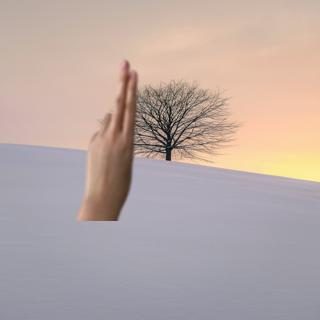DHAVE: (77, 56, 143, 212)
